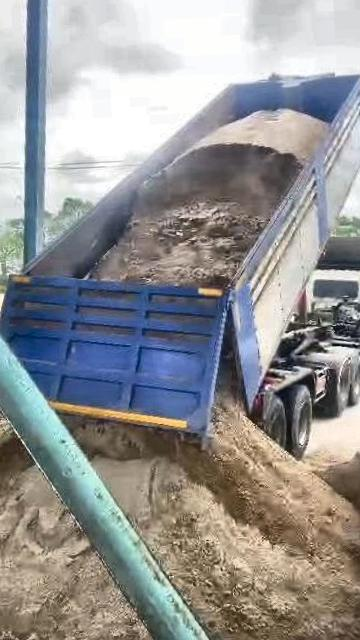sand: (74, 379, 360, 640), (93, 109, 327, 286), (0, 439, 161, 640), (319, 437, 360, 544)
